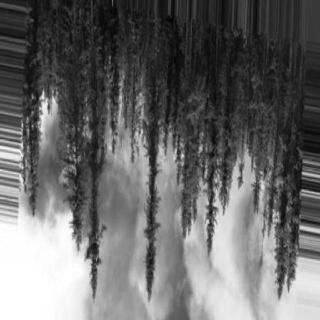Fire: (59, 64, 195, 200), (244, 186, 282, 272)
